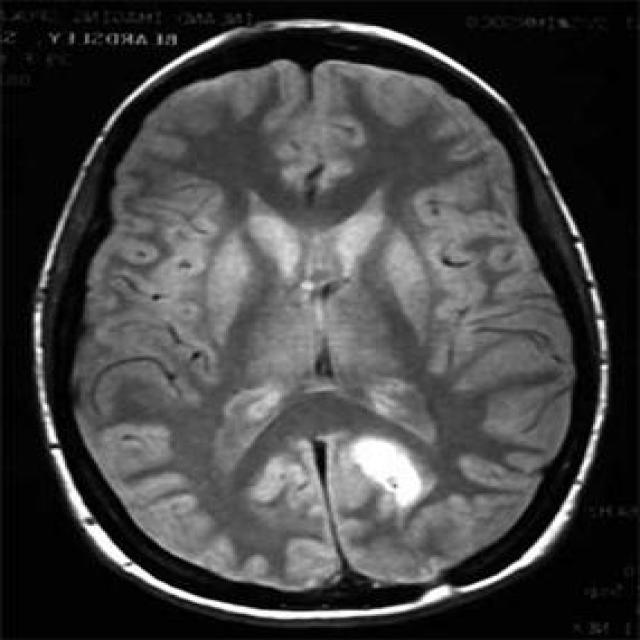Tumor-Cell: (332, 412, 448, 512)
